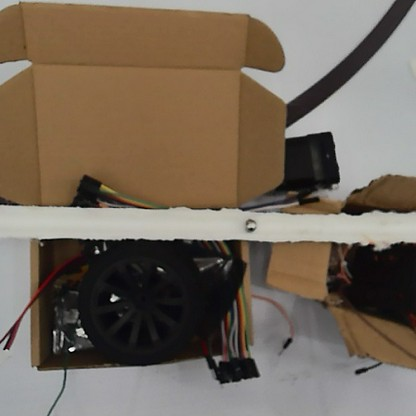ironball: (241, 214, 258, 233)
